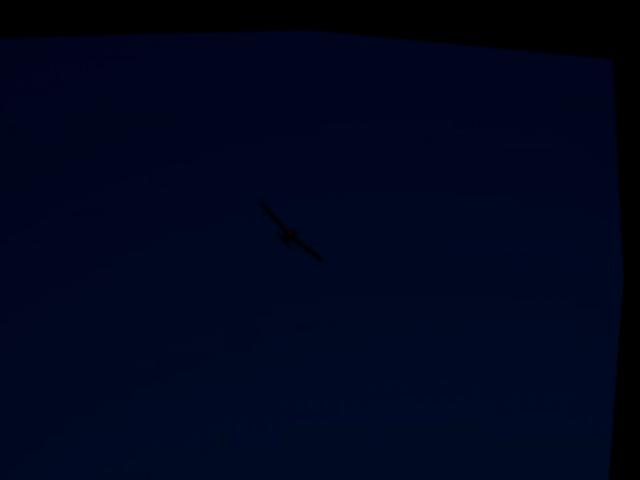iha: (261, 190, 329, 262)
